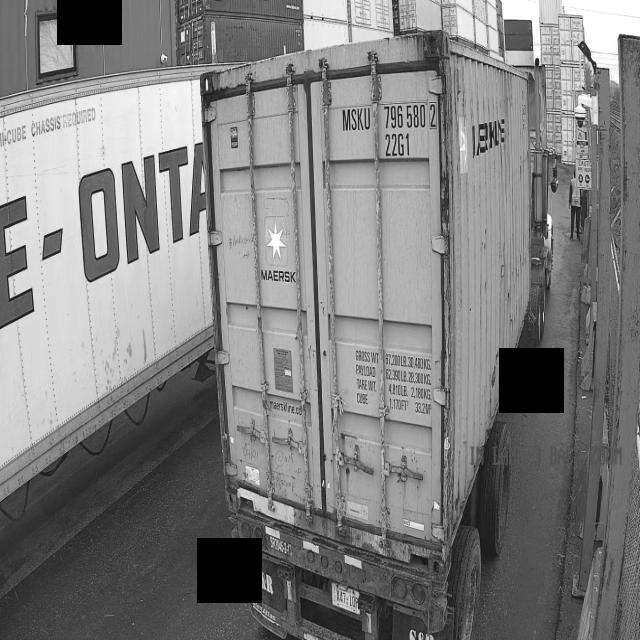container_company_logo: (260, 210, 297, 287)
container_number: (339, 99, 446, 161)
driver: (568, 171, 581, 240)
license_plate: (330, 579, 365, 613)
other_container_info: (350, 345, 436, 426)
truck_with_container: (201, 31, 558, 640), (0, 68, 211, 500)
